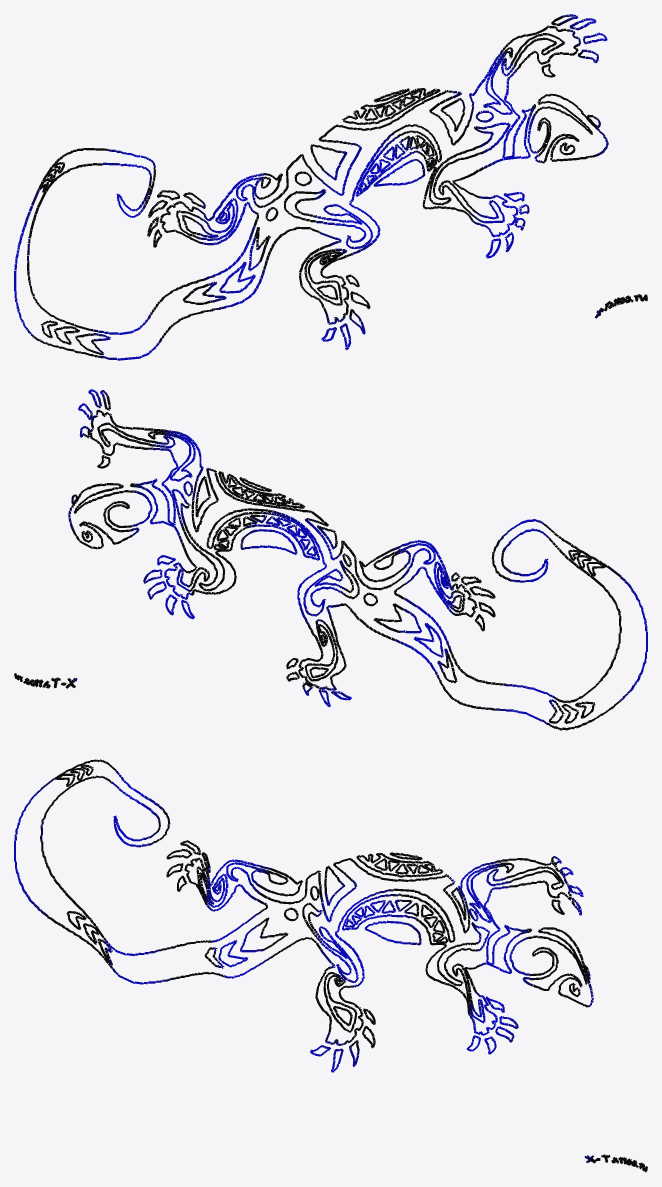
File: iguana.glb
3 views of the same model, one above another, from view 1: azimuth 30°, elevation 25°; view 2: azimuth 150°, elevation 25°; view 3: azimuth 330°, elevation 25° (orthographic). The views are drawn at different scales.
Size of the model in its own units: 0.8927 by 0.4145 by 0.043.
